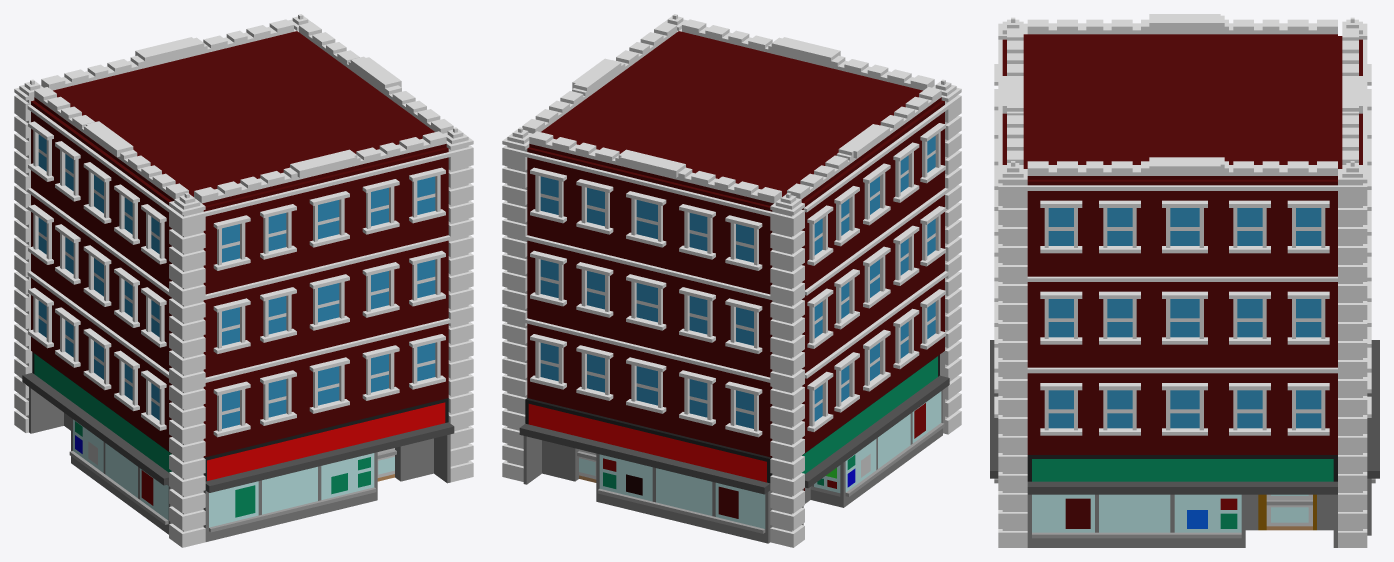
Rendered from obj_store02_DarkRed.obj.
3 views of the same model, side by side, from view 1: azimuth 30°, elevation 25°; view 2: azimuth 150°, elevation 25°; view 3: azimuth 270°, elevation 25° (orthographic). The views are drawn at different scales.
Bounding box in the file's own units: 9.1 × 10 × 9.3.
1 material, 1 textured.
